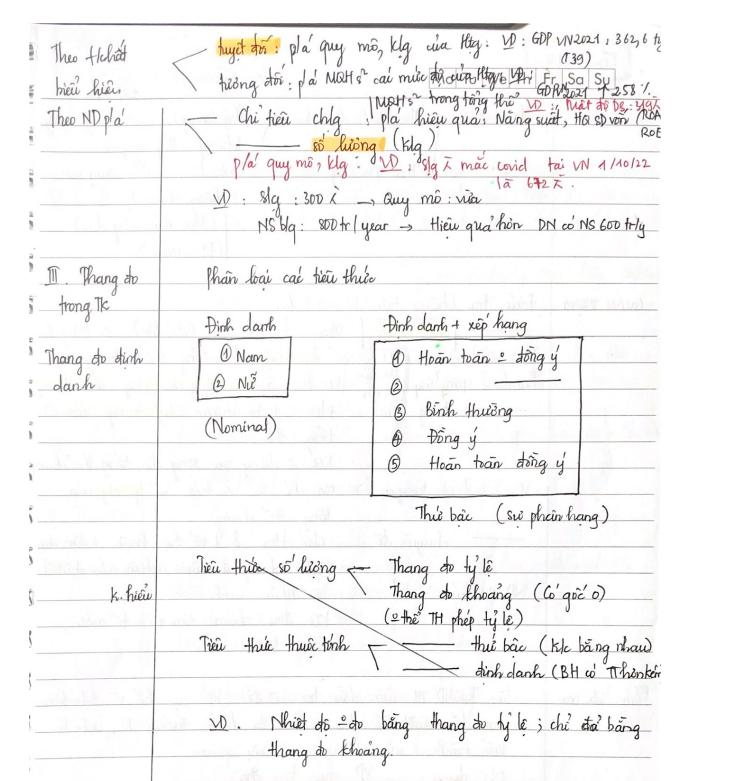text: (217, 28, 668, 69), (231, 152, 653, 193), (237, 103, 662, 141), (218, 63, 659, 98), (204, 709, 646, 743), (257, 212, 648, 246), (211, 184, 481, 212), (388, 580, 608, 612), (371, 91, 663, 113), (468, 633, 654, 667), (413, 499, 610, 531), (203, 263, 378, 293), (389, 344, 563, 372), (380, 307, 532, 339), (311, 127, 438, 163), (390, 449, 567, 474), (197, 553, 339, 584), (198, 630, 353, 658), (473, 661, 662, 683), (266, 737, 393, 767), (380, 606, 524, 632), (42, 343, 147, 377), (43, 262, 142, 298), (386, 552, 494, 584), (392, 397, 517, 422), (46, 36, 132, 69), (46, 103, 128, 134), (392, 423, 481, 450), (51, 71, 126, 103), (203, 310, 279, 338), (57, 293, 112, 324), (109, 580, 156, 606), (220, 342, 267, 367), (212, 369, 261, 392), (51, 372, 97, 396)
